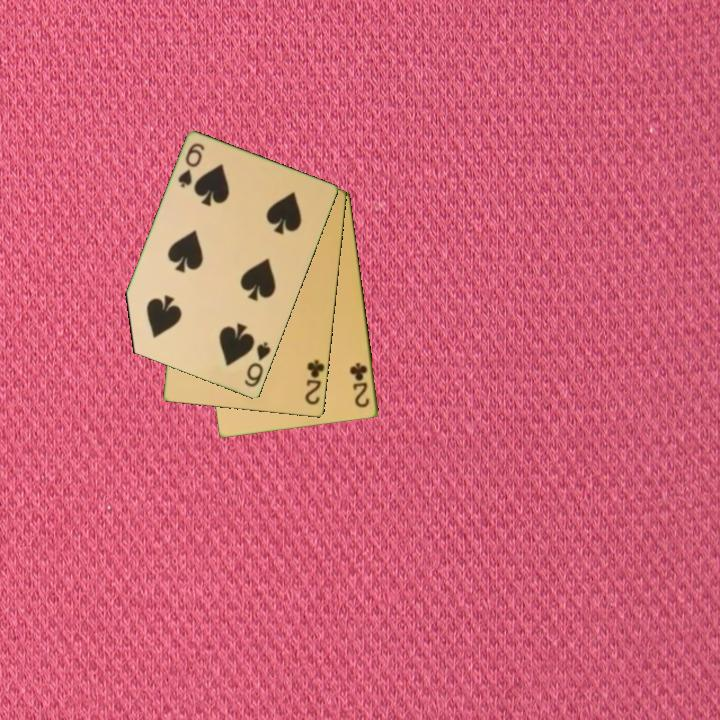2c: (346, 359, 373, 411), (302, 357, 327, 408)
6s: (174, 140, 208, 191), (241, 339, 274, 390)
